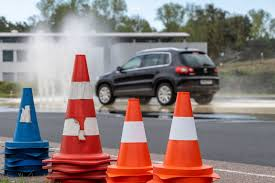car: (95, 48, 219, 104)
cone: (49, 54, 105, 178), (154, 92, 219, 182), (106, 95, 158, 181)
